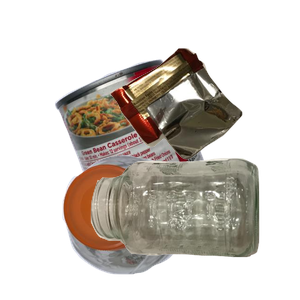glass: (88, 156, 300, 300)
metal: (52, 57, 260, 237)
plastic: (60, 152, 237, 300)
trash: (107, 46, 300, 198)
